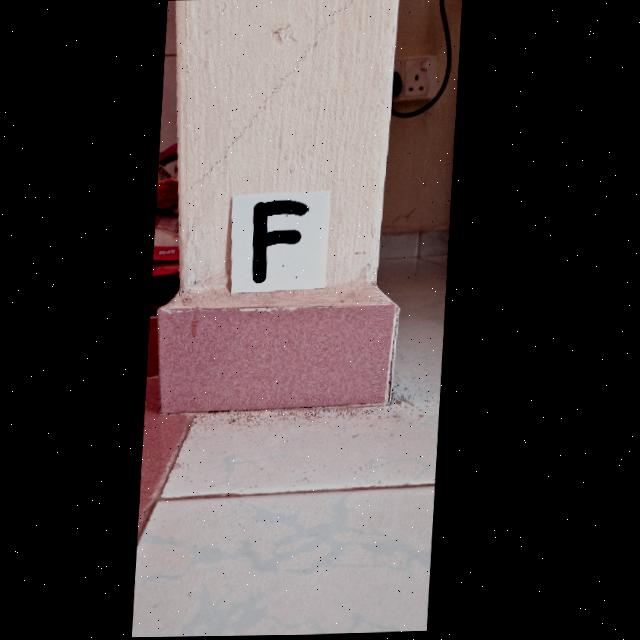F: (256, 201, 311, 284)
